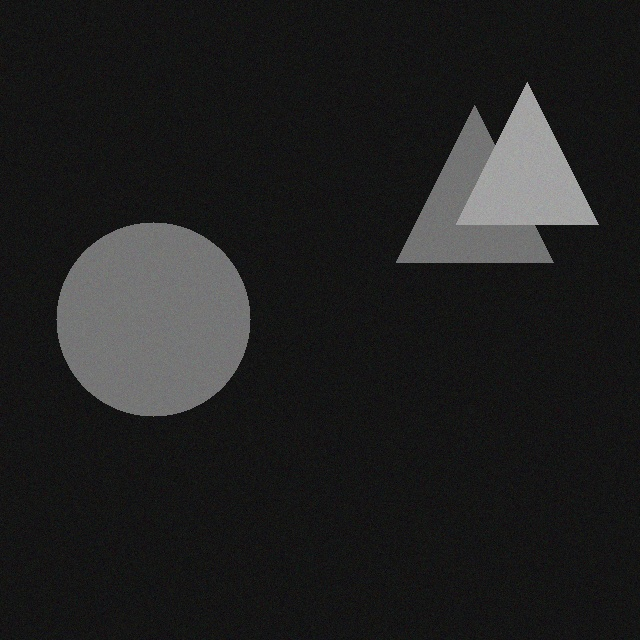circle: (69, 220, 263, 414)
triangle: (409, 103, 566, 260), (469, 80, 611, 222)
